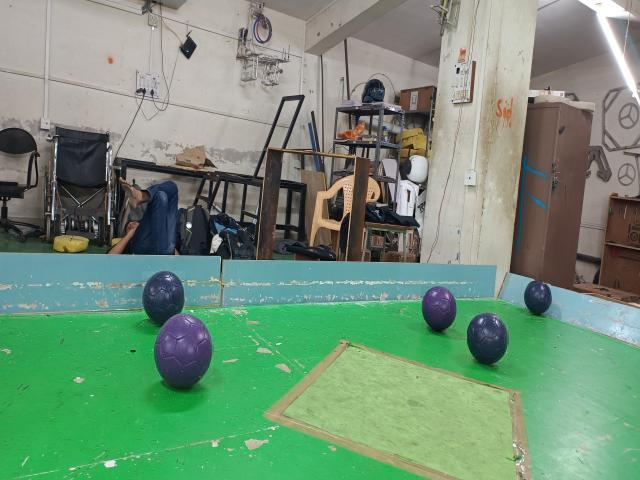jambhalya: (155, 314, 213, 388), (422, 286, 456, 331)
kaalyya: (143, 271, 185, 326), (467, 314, 508, 365), (524, 282, 551, 314)
